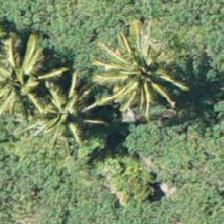coconut_tree: (17, 69, 107, 159), (100, 20, 190, 110), (0, 29, 58, 119)
